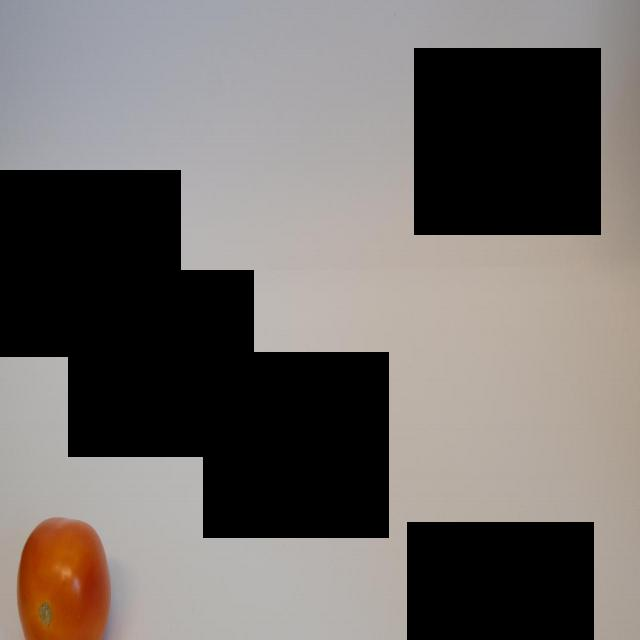tomato: (13, 511, 112, 638)
